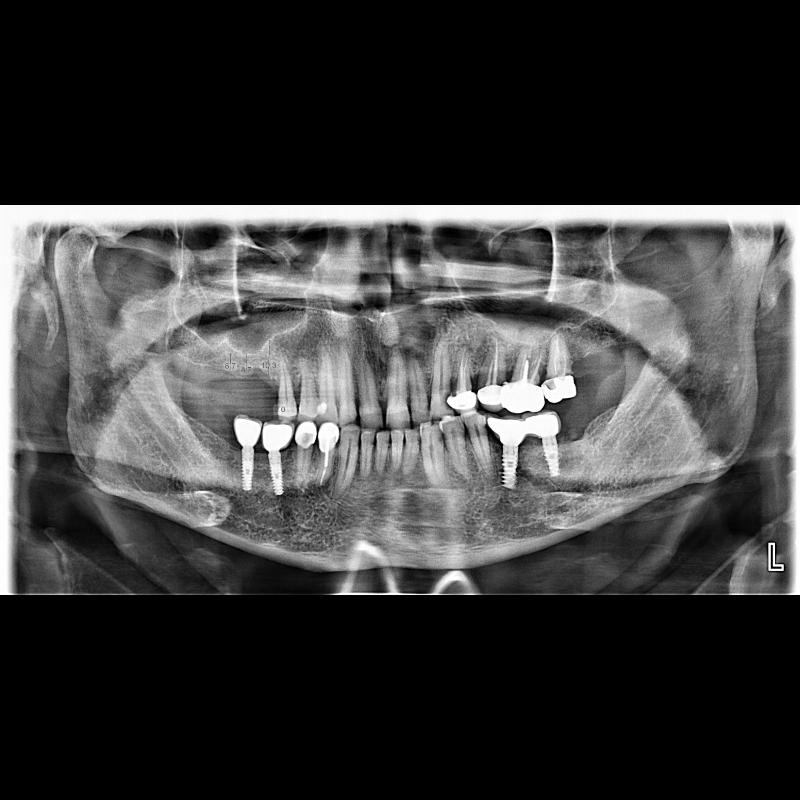NORIS: (500, 446, 520, 493), (268, 451, 286, 495), (543, 440, 563, 478), (240, 448, 256, 492)
